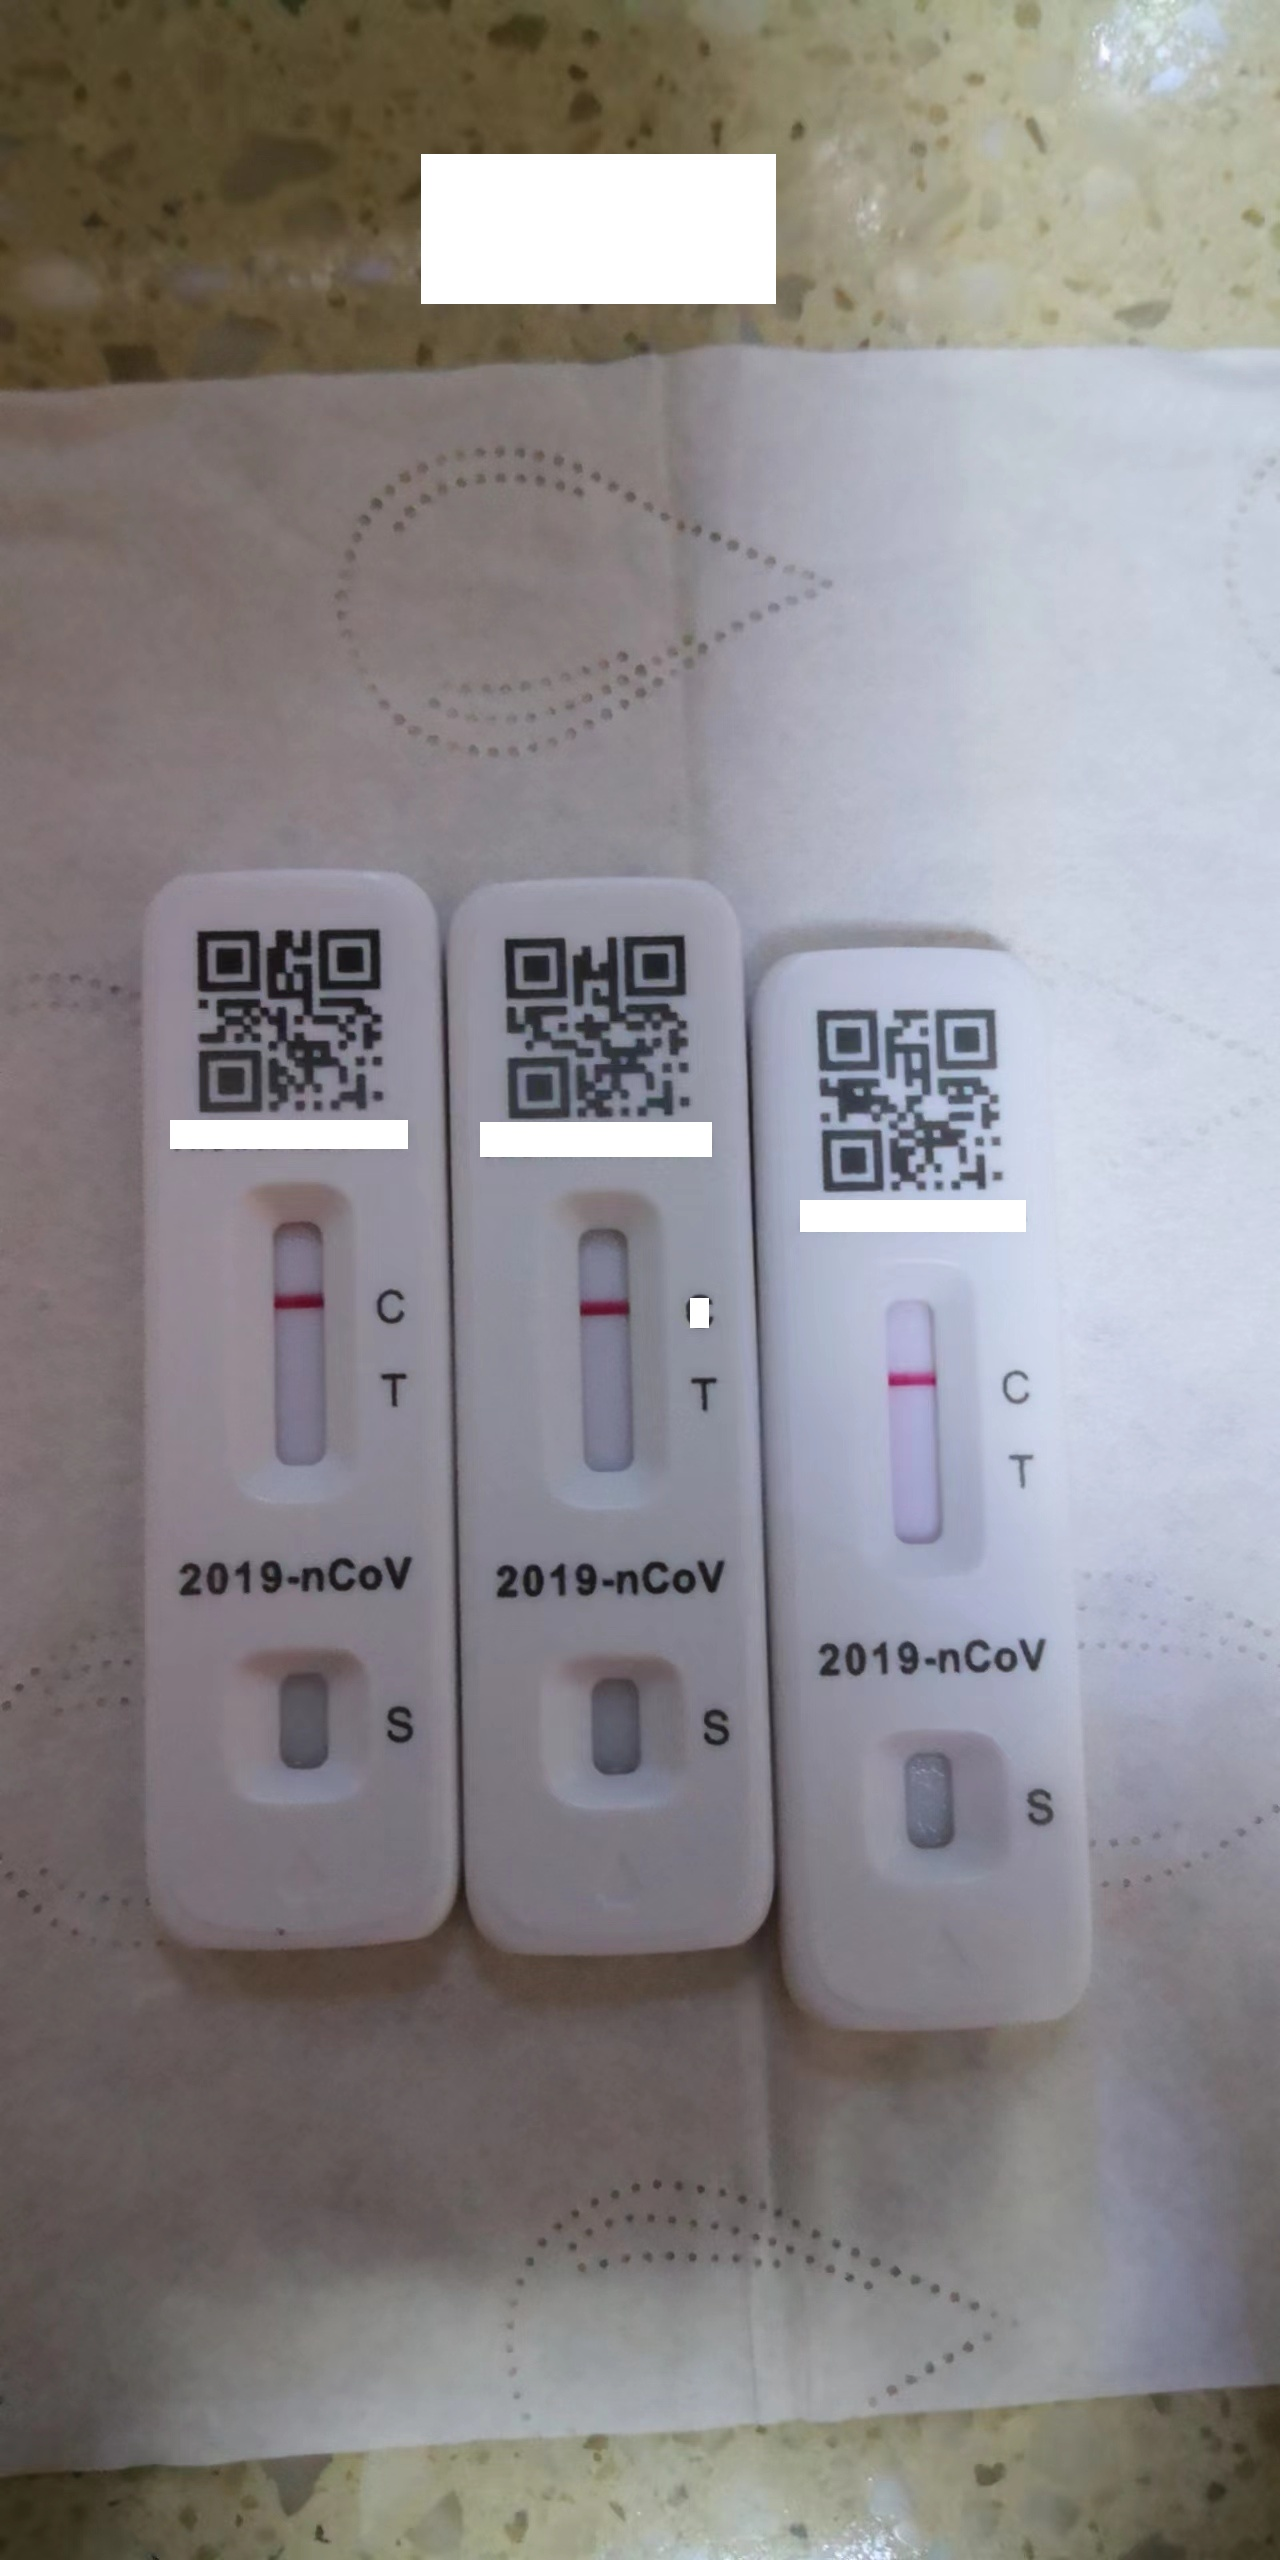negative: (247, 1176, 364, 1492), (557, 1185, 674, 1499), (864, 1269, 984, 1561)
